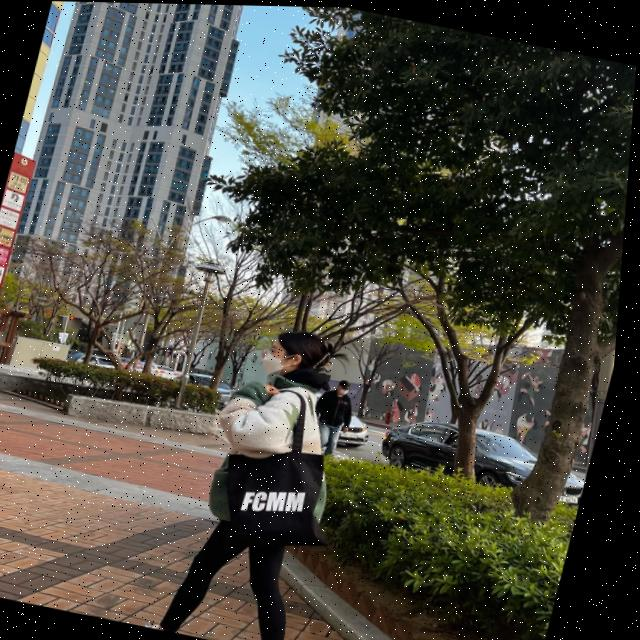ecobag: (190, 370, 363, 551)
